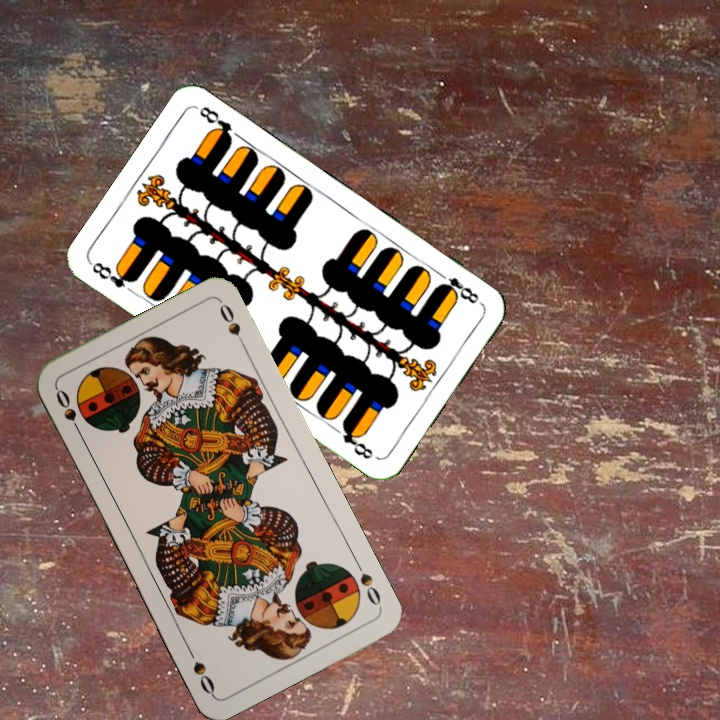E8: (432, 267, 482, 307), (87, 258, 140, 291)
SO: (51, 384, 85, 439), (351, 556, 384, 611)
